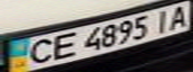4: (78, 25, 106, 52)
5: (130, 14, 154, 40)
8: (100, 21, 121, 48)
9: (115, 17, 139, 45)
A: (163, 2, 193, 30)
C: (18, 36, 60, 66)
E: (45, 30, 81, 61)
I: (148, 7, 175, 34)
